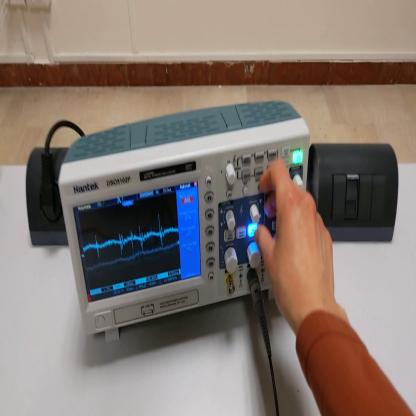hand: (256, 159, 338, 325)
oscilloscope: (61, 104, 310, 345)
socket: (25, 144, 68, 248)
